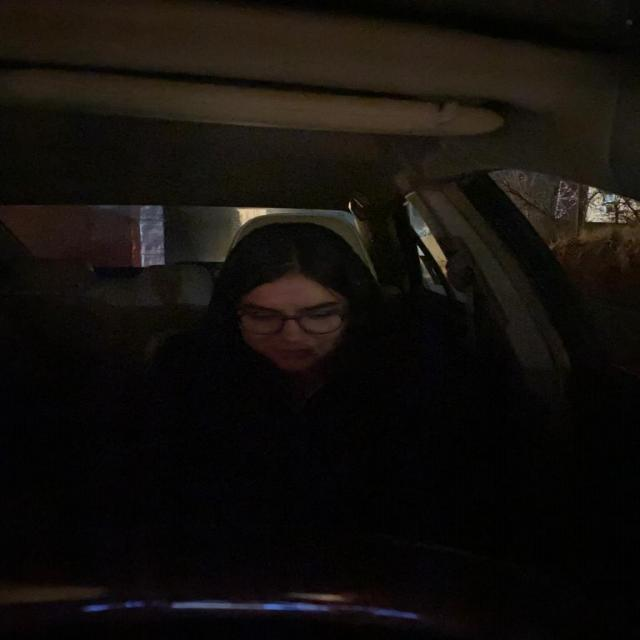drowsy: (217, 222, 373, 385)
